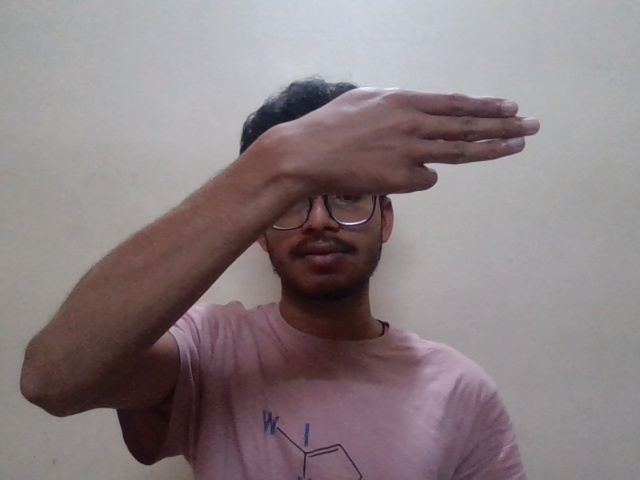wednesday: (258, 88, 551, 215)
